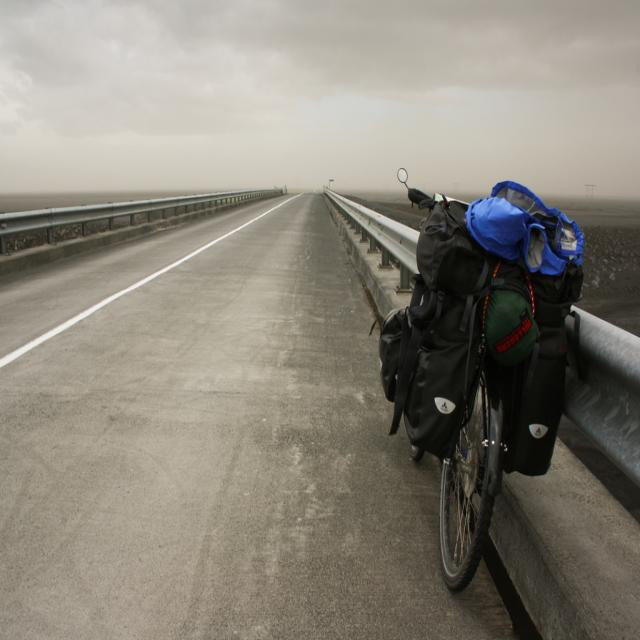Motorbikes: (384, 151, 578, 607)
